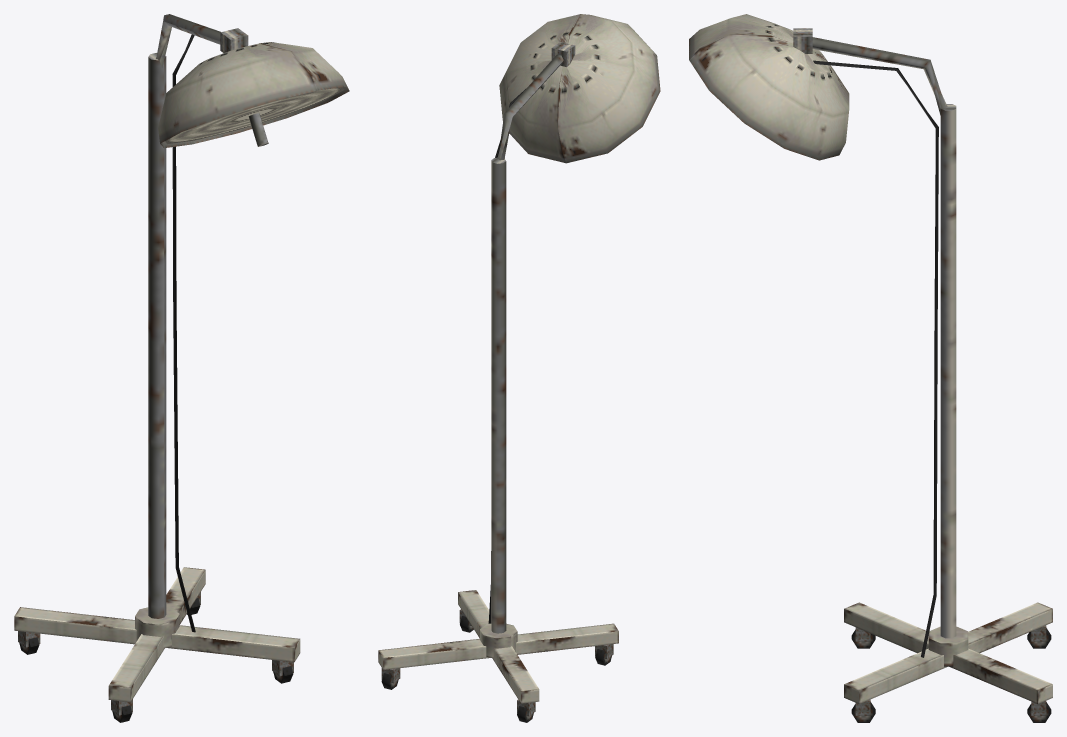
File: surgical_lamp_stand.obj
3 views of the same model, side by side, from view 1: azimuth 30°, elevation 25°; view 2: azimuth 150°, elevation 25°; view 3: azimuth 270°, elevation 25° (orthographic). The views are drawn at different scales.
Visible parts, largest first — view 1: surgical_lamp_stand; view 2: surgical_lamp_stand; view 3: surgical_lamp_stand.
Part boxes in pixels (<box>): surgical_lamp_stand: <box>14,14,349,722</box>; surgical_lamp_stand: <box>378,14,660,722</box>; surgical_lamp_stand: <box>689,14,1052,722</box>.
Size of the model in its own units: 0.4879 by 1.69 by 0.8502.
Materials: 2 (2 with a texture image).
